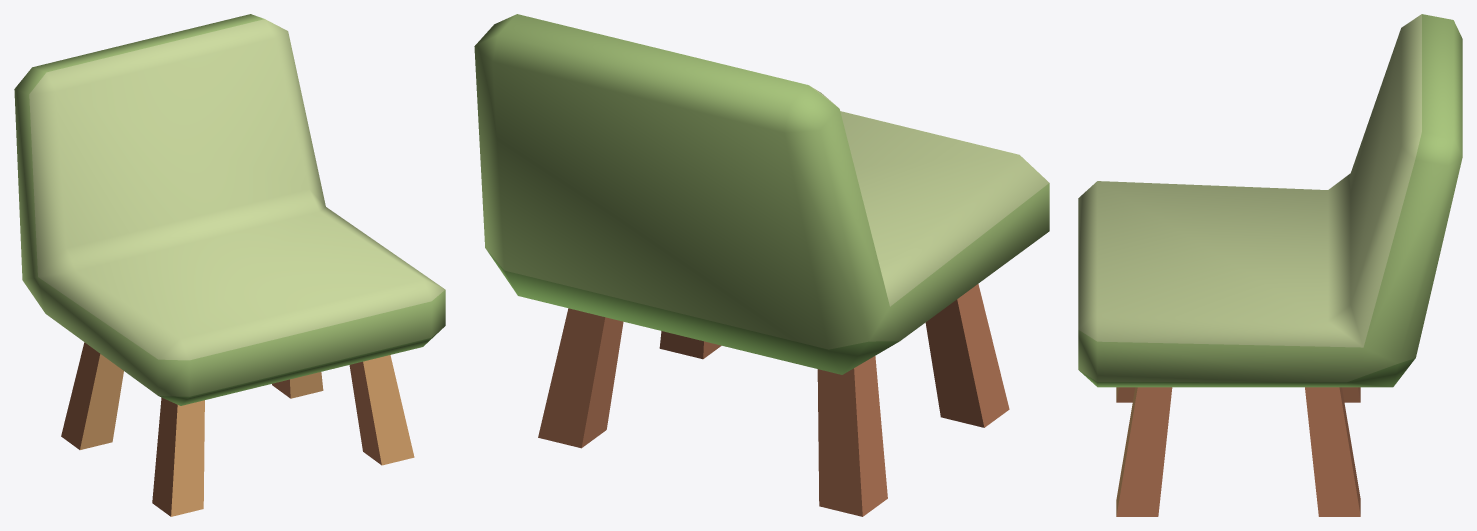
The model's file is Chair_01.fbx.
3 renders of one model, left to right at view 1: azimuth 30°, elevation 25°; view 2: azimuth 150°, elevation 25°; view 3: azimuth 270°, elevation 25°, orthographic. The views are drawn at different scales.
Visible parts, largest first — view 1: Chair_01; view 2: Chair_01; view 3: Chair_01.
Boxes of the visible parts, bbox=[...] form: Chair_01: bbox=[14, 14, 445, 516]; Chair_01: bbox=[474, 14, 1049, 516]; Chair_01: bbox=[1078, 14, 1462, 516].
Bounding box in the file's own units: 41.64 × 47.08 × 43.36.
